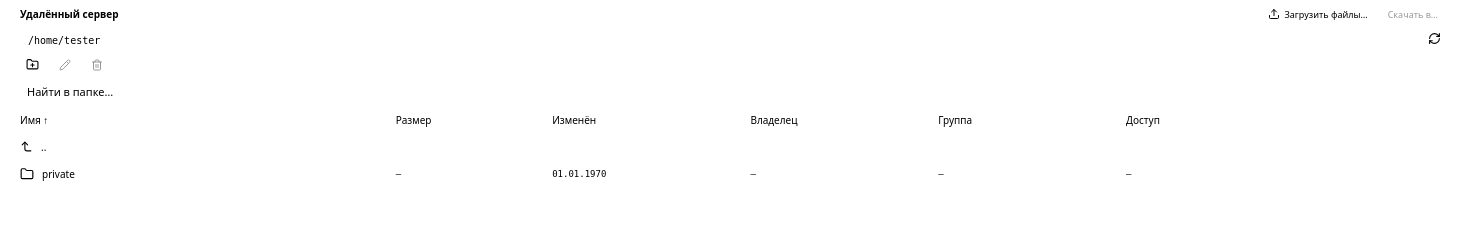
Test: keeps the last accessible folder and its rows when navigation is denied
The width and height of the screenshot is (1464, 231).
Double-click the text "private".
double_click(58, 174)  # box [42,166,75,180]
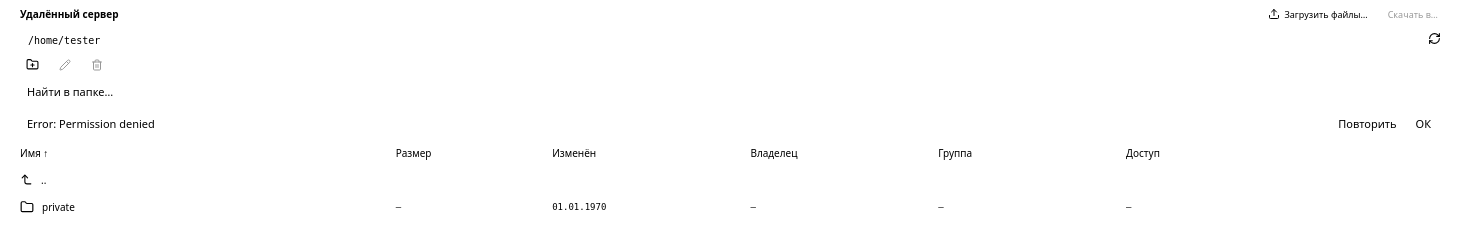
Check: the text "private" is shown, box [42,200,75,214]
Check: the message "Error: Permission denied Повторить ОК" is shown, box [20,110,1444,137]
Click the button "ОК".
click(1423, 124)  # box [1410,115,1437,132]
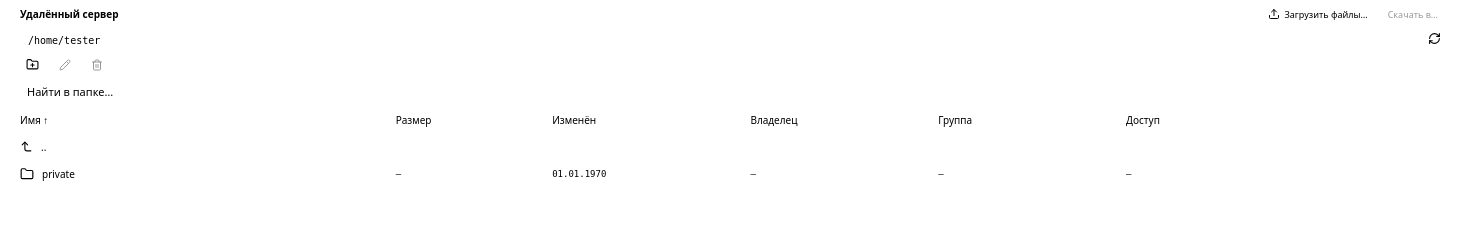
Check: the text "private" is shown, box [42,166,75,180]
Check: the message "Error: Permission denied Повторить ОК" is gone
